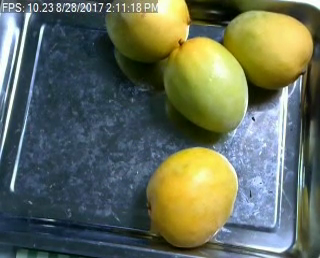Mango: (146, 147, 235, 246), (164, 36, 251, 130), (222, 11, 315, 91), (104, 2, 189, 65)
